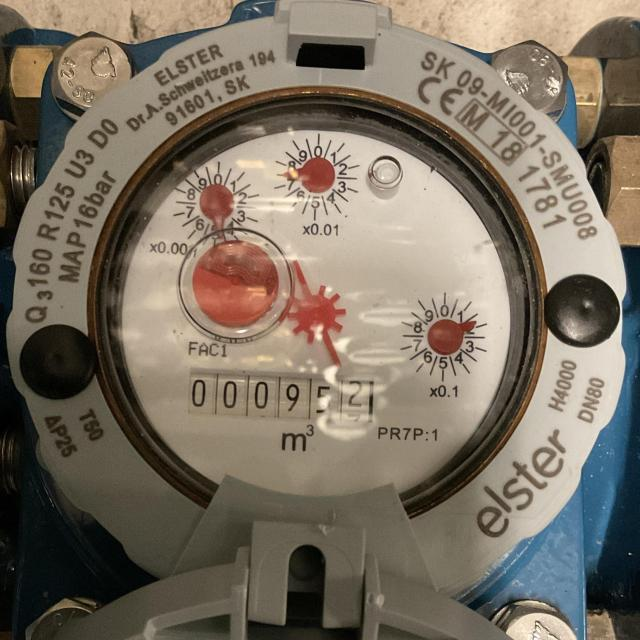gaz_meter: (113, 128, 512, 489)
indication: (188, 369, 371, 423)
